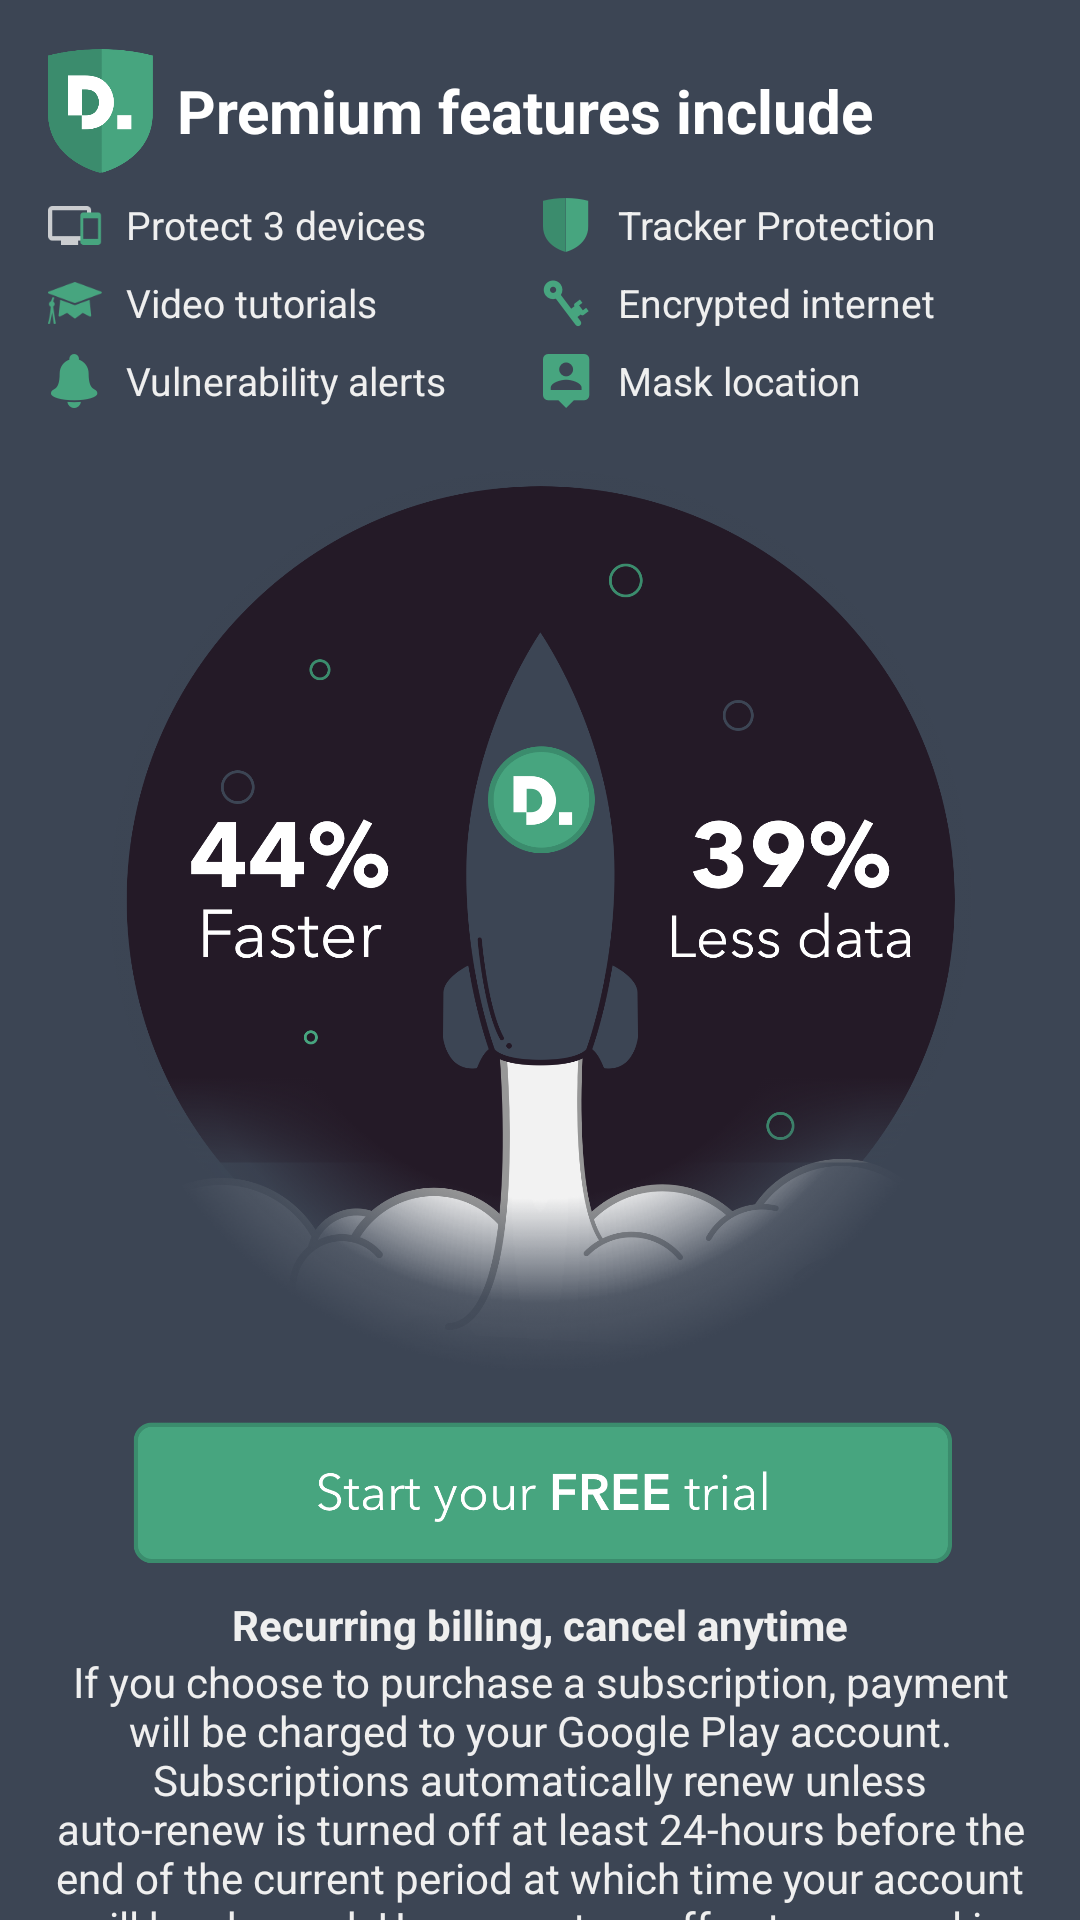

Icon click points for this 1080px×1920px phone screenshot, format (x,y):
feature 3devices: (74,225)
feature alerts: (74,381)
feature encrypted: (566,303)
feature location: (566,381)
feature protection: (565,225)
feature tutorial: (75,303)
